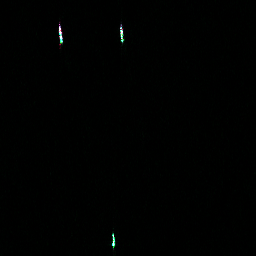ship: (56, 23, 64, 44), (118, 24, 125, 44), (109, 232, 117, 249)
